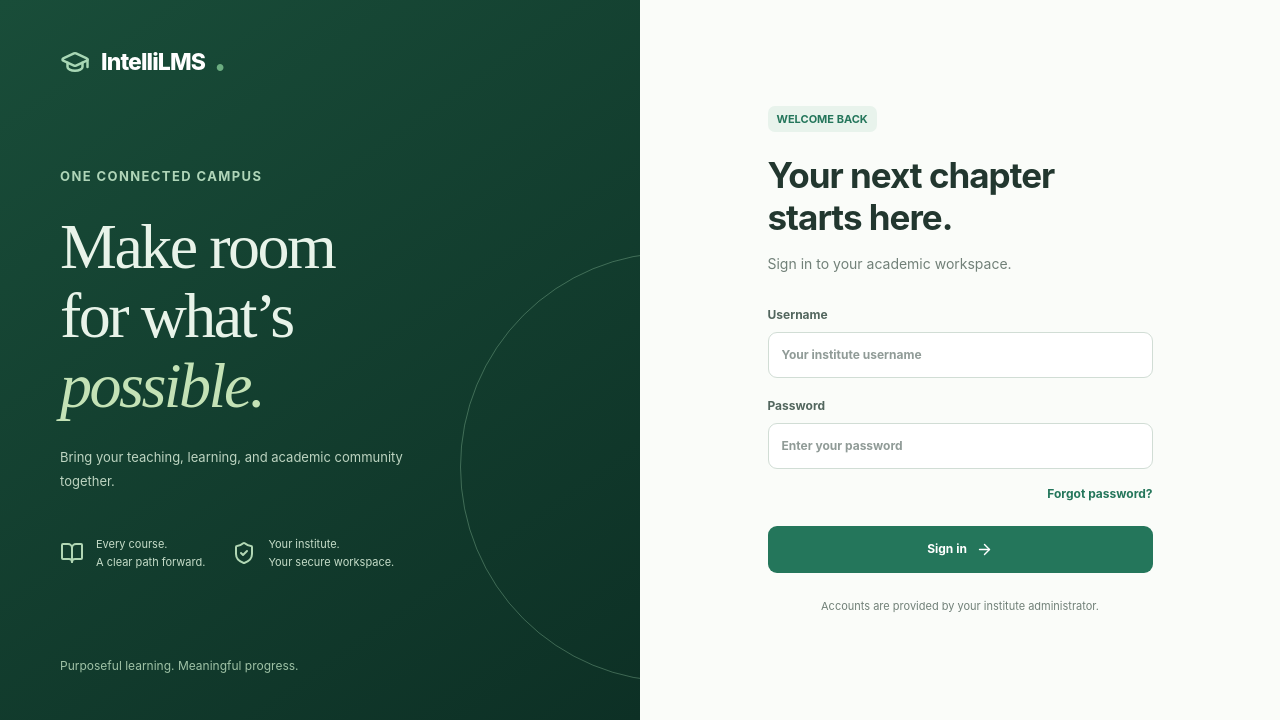
Scenario: authentication and navigation › validates an empty login form without a network mutation
The width and height of the screenshot is (1280, 720).
Click the button "Sign in" at (960, 549), box [768,526,1152,573]
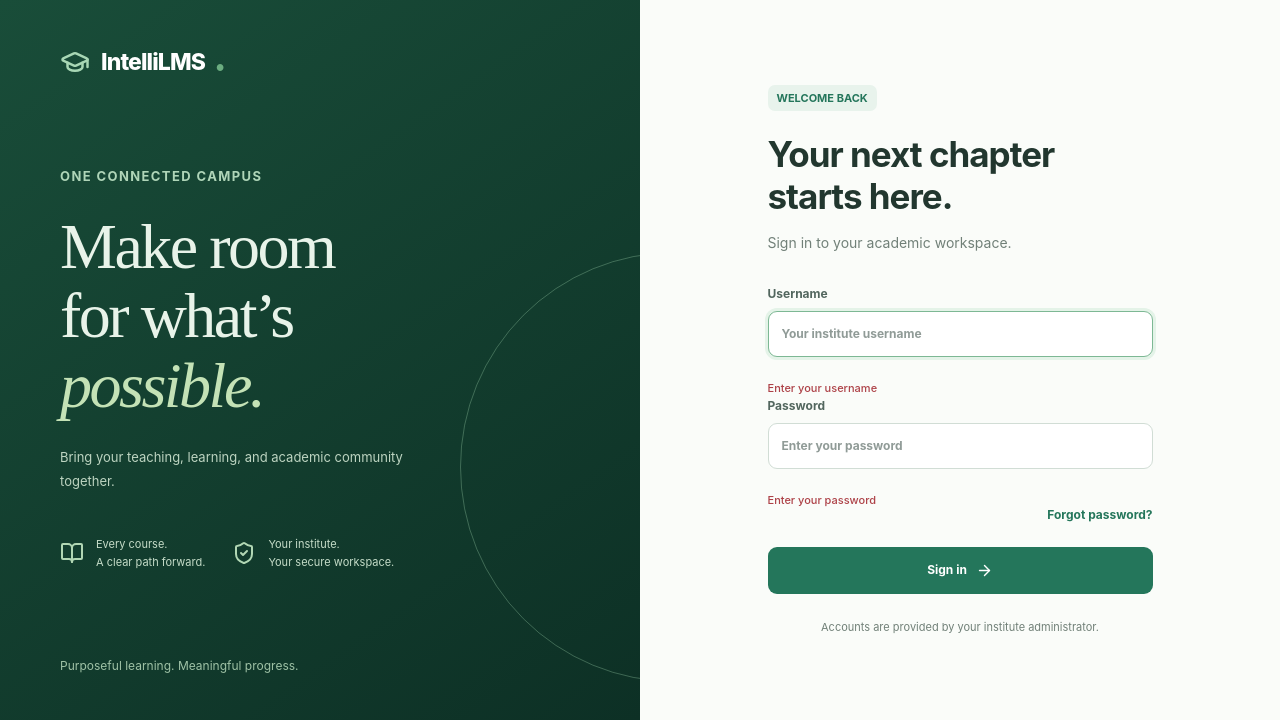
Now the text "Enter your username" is shown, box [768,381,877,395]
